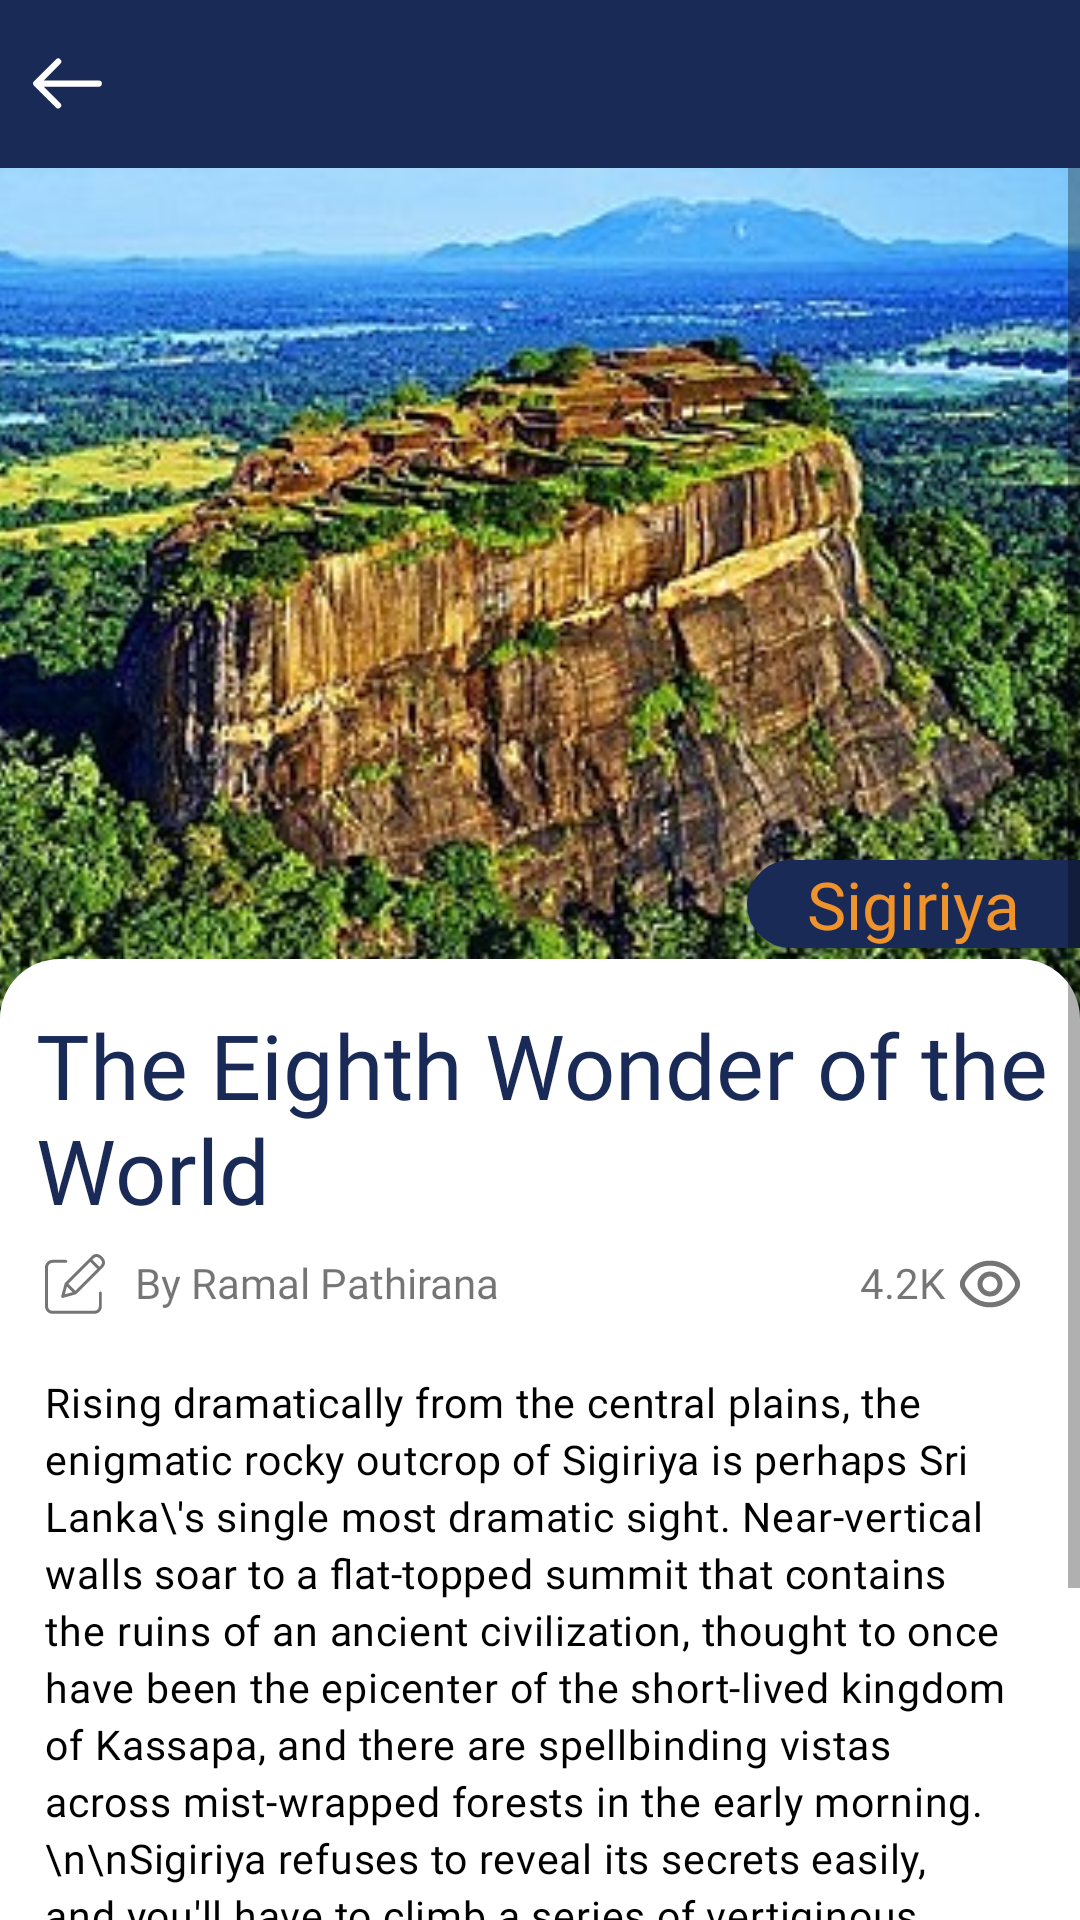

Screen size 1080x1920. Icon name, then its box in pixels as (x1, y1, x2, y2):
back: (33, 58, 102, 109)
view: (960, 1260, 1020, 1308)
writtenby: (45, 1254, 105, 1314)
